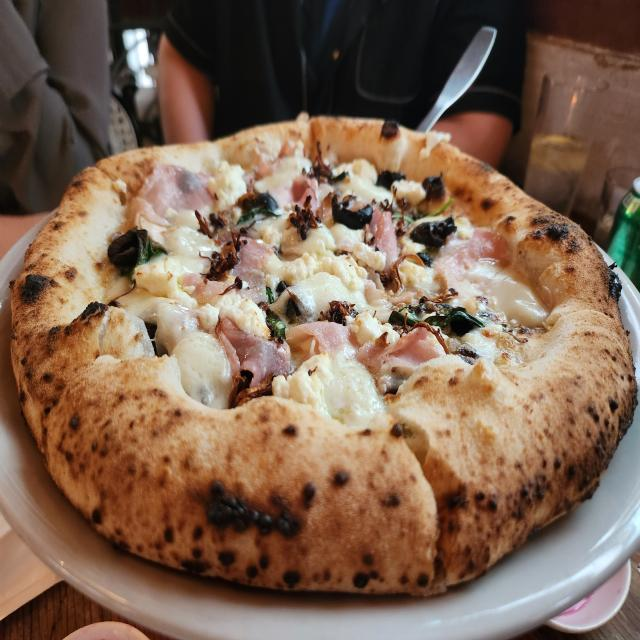Cup: (522, 72, 608, 219)
Plate: (1, 208, 639, 639)
